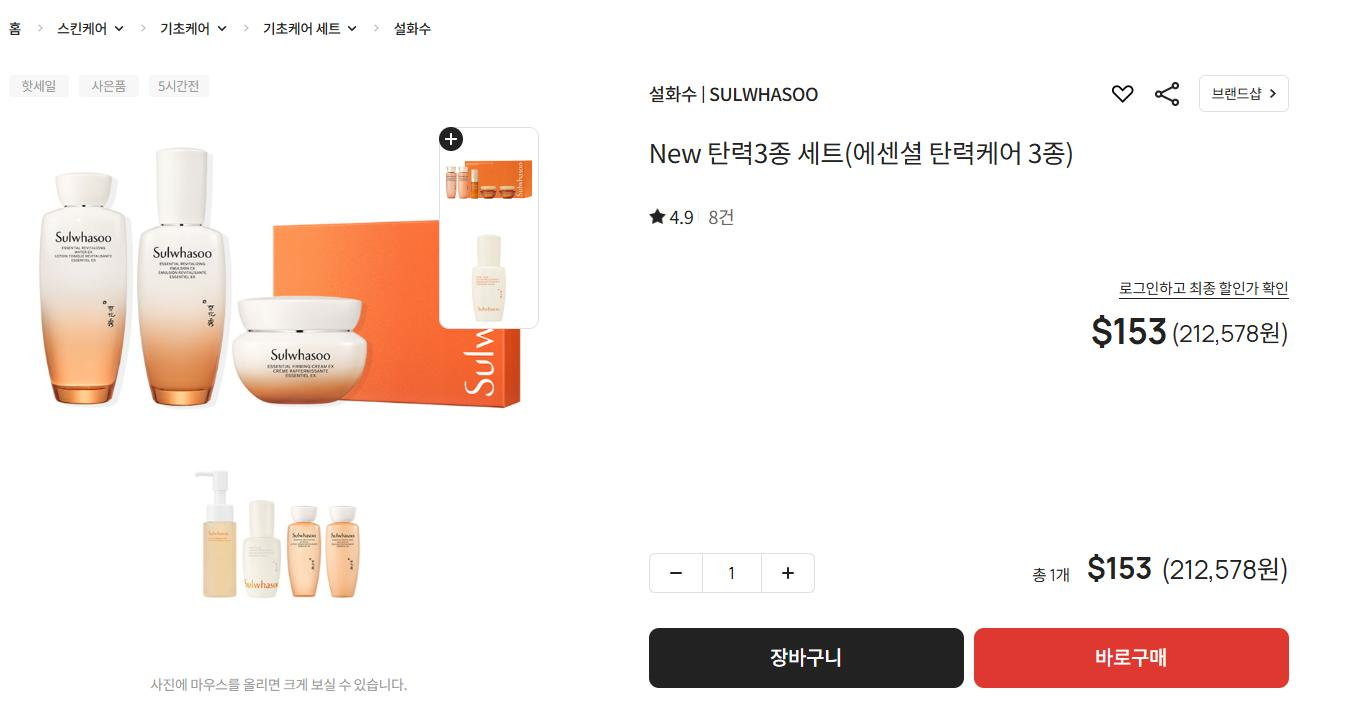button: (644, 626, 961, 686), (972, 629, 1287, 686), (646, 555, 822, 592), (1122, 274, 1290, 299), (1199, 80, 1290, 118), (1149, 81, 1192, 112), (1106, 80, 1134, 105)
checkbox: (255, 12, 367, 39), (50, 18, 127, 40), (157, 18, 231, 37)
